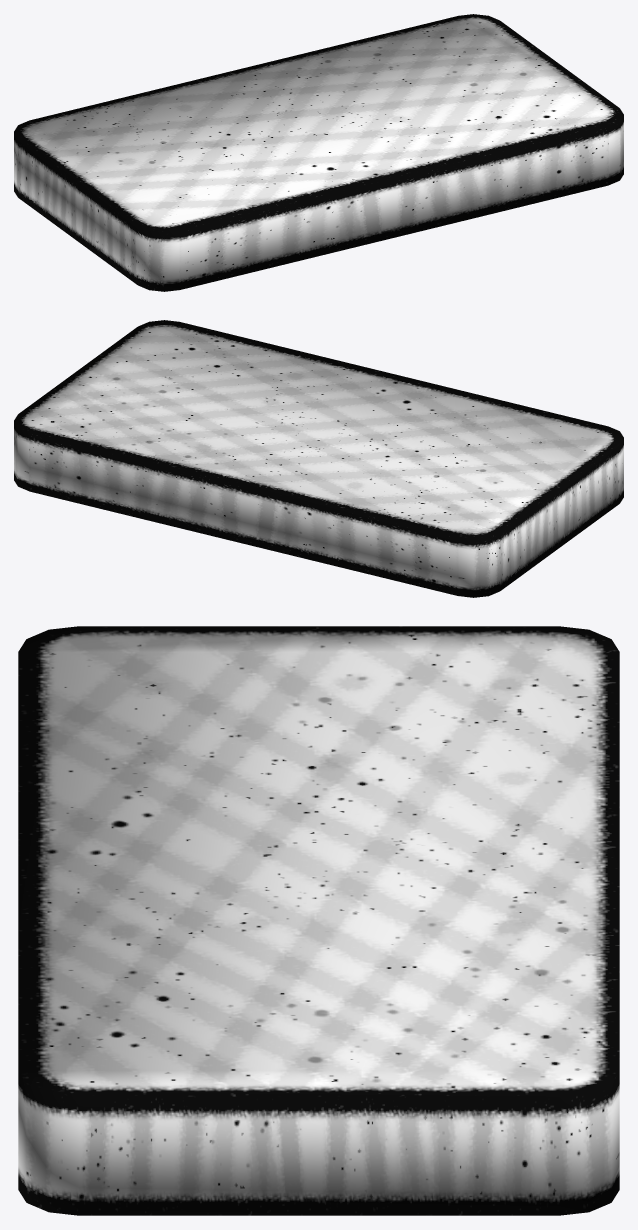
File: matress.obj
3 views of the same model, one above another, from view 1: azimuth 30°, elevation 25°; view 2: azimuth 150°, elevation 25°; view 3: azimuth 270°, elevation 25° (orthographic). The views are drawn at different scales.
Parts seen in each view (by area): view 1: matress; view 2: matress; view 3: matress.
Boxes of the visible parts, x1,y1,x2,y2 form: matress: (14,14,623,291); matress: (14,320,623,597); matress: (18,626,619,1215).
Size of the model in its own units: 4.97 by 0.5864 by 2.68.
